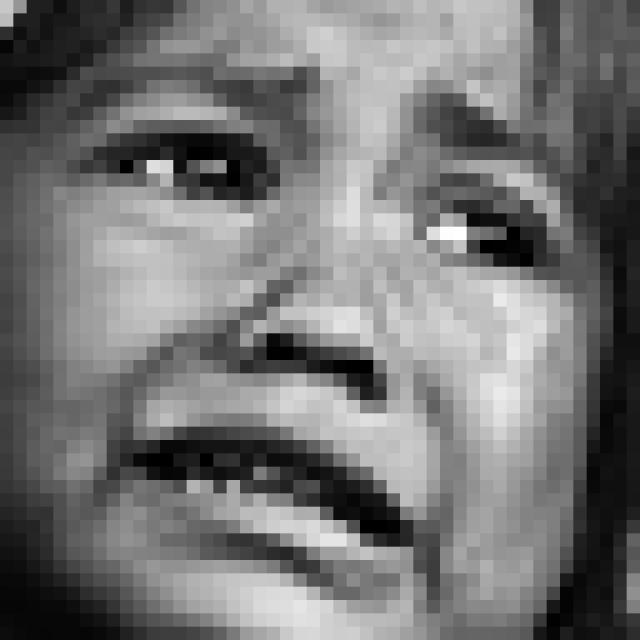sad: (67, 42, 585, 604)
